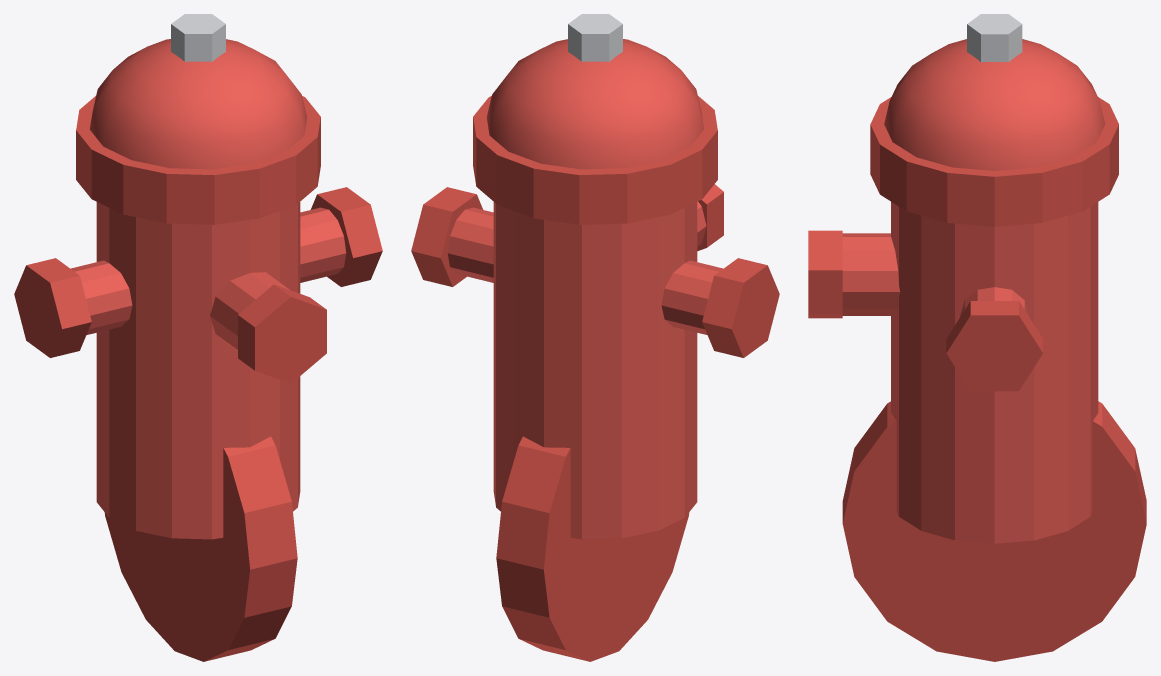
The model's file is HydrantModel.glb.
3 views of the same model, side by side, from view 1: azimuth 30°, elevation 25°; view 2: azimuth 150°, elevation 25°; view 3: azimuth 270°, elevation 25° (orthographic).
Visible parts, largest first — view 1: HydrantModel; view 2: HydrantModel; view 3: HydrantModel.
Part boxes in pixels (x1,y1,x2,y2): HydrantModel: [14, 14, 382, 661]; HydrantModel: [411, 14, 779, 661]; HydrantModel: [808, 14, 1146, 661].
Bounding box in the file's own units: 0.54 × 1 × 0.49.
